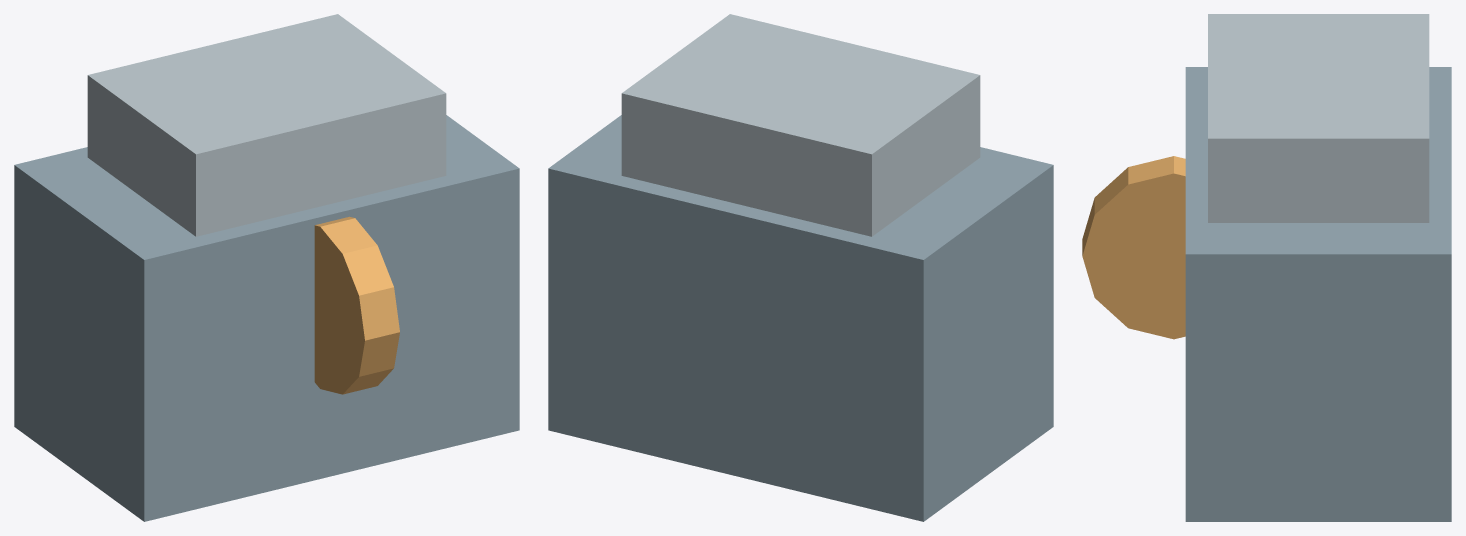
Rendered from machine_lod0.glb.
The picture shows the model from 3 angles, left to right: view 1: azimuth 30°, elevation 25°; view 2: azimuth 150°, elevation 25°; view 3: azimuth 270°, elevation 25°; orthographic projection. The views are drawn at different scales.
Parts seen in each view (by area): view 1: part_0, part_1, part_2; view 2: part_0, part_1; view 3: part_0, part_1, part_2.
Boxes of the visible parts, <box> form: part_0: <box>14,115,519,521</box>; part_1: <box>87,14,446,236</box>; part_2: <box>314,216,399,394</box>; part_0: <box>548,115,1053,521</box>; part_1: <box>621,14,980,236</box>; part_0: <box>1185,67,1451,521</box>; part_1: <box>1208,14,1429,222</box>; part_2: <box>1082,156,1185,339</box>.
Size of the model in its own units: 3 by 2.63 by 2.5.
